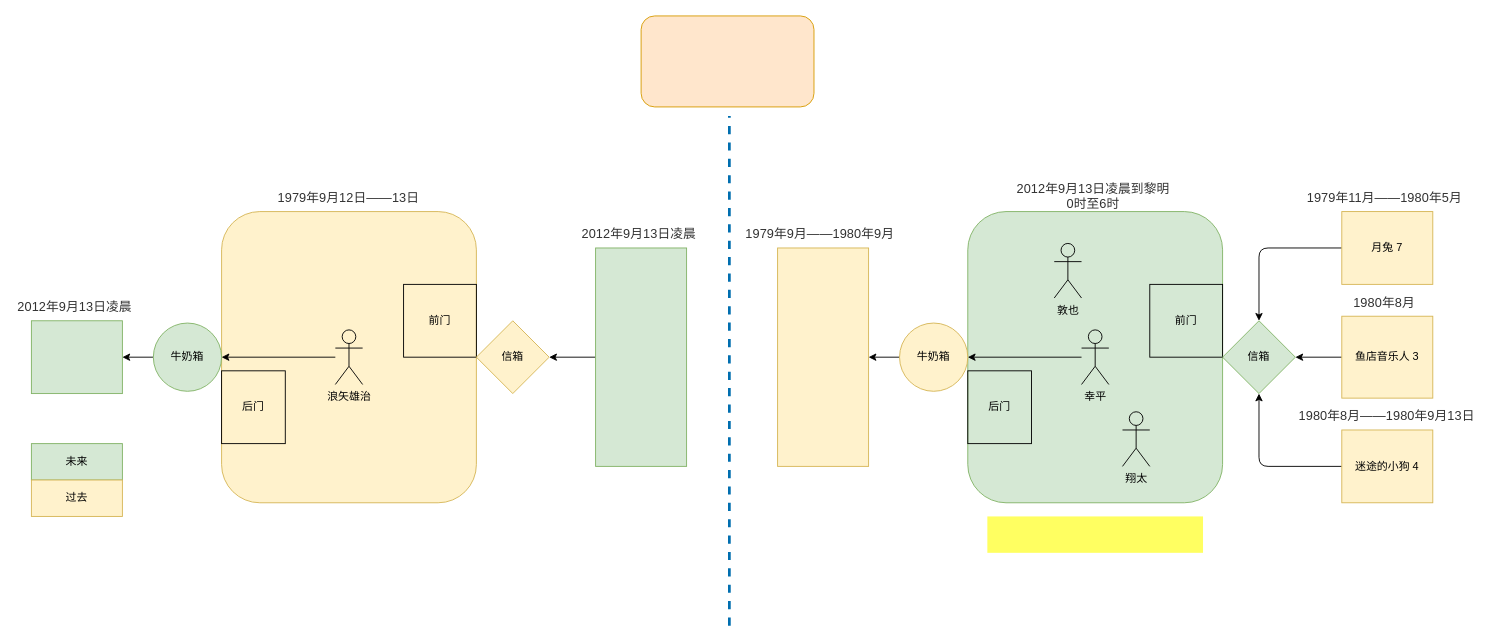
This 1492x643 diagram has some shape labels left out. Here are the shapes that lost their labels. From the top down, the centre of each, then its label:
At pixel 727 61: "两个永恒的夜晚".
At pixel 76 357: "给白纸的回信".
At pixel 641 356: "来自： 百分小毛头 绿河的女儿 保罗 ·列侬 一张白纸".
At pixel 823 356: "寄给： 月兔 鱼店音乐人 迷途的小狗 最后回信前 投入一张白纸".
At pixel 1095 534: "月兔的回信已经写过，音乐人去世，小狗未寄到店主手里，而是被“打劫”".
